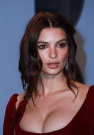female: (24, 17, 75, 86)
